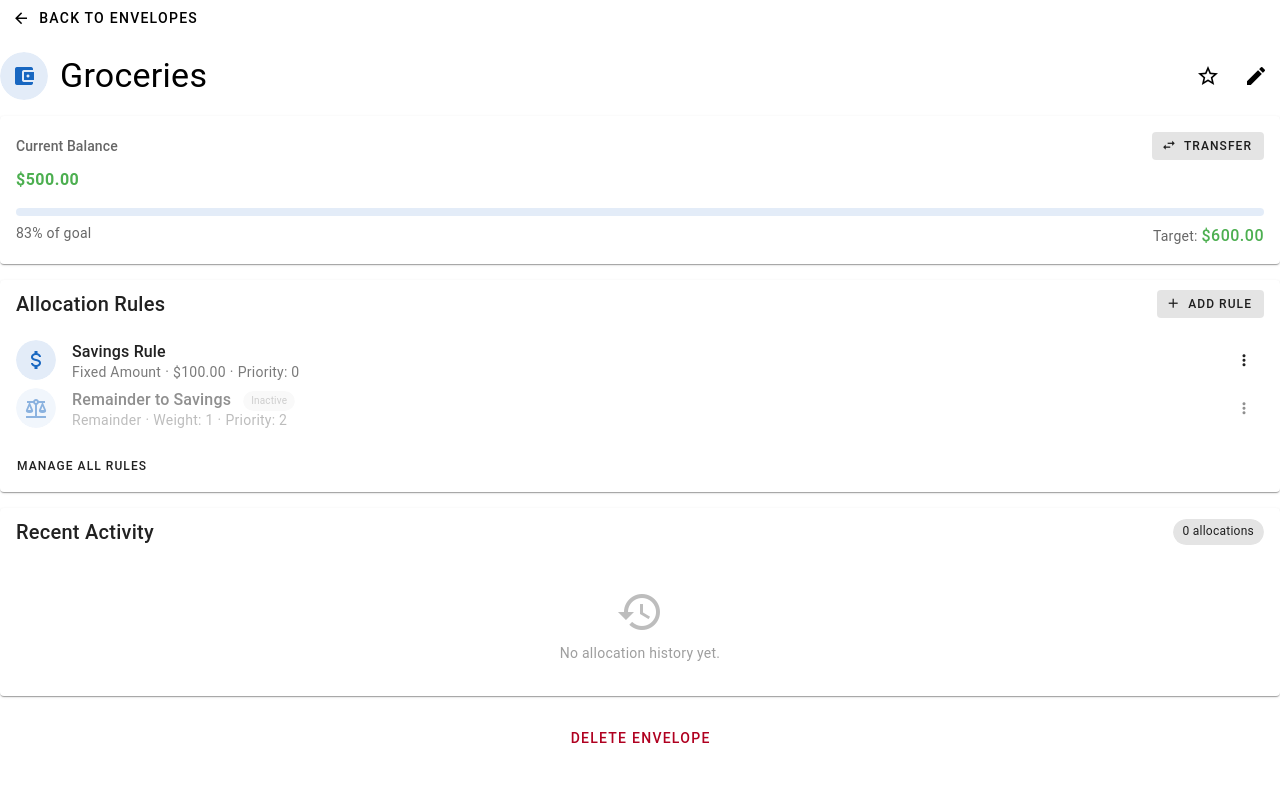
Scenario: EnvelopeDetailView › shows transfer button and can open transfer dialog
Click the button "Transfer".
click(1208, 146)  # box [1152,132,1264,160]
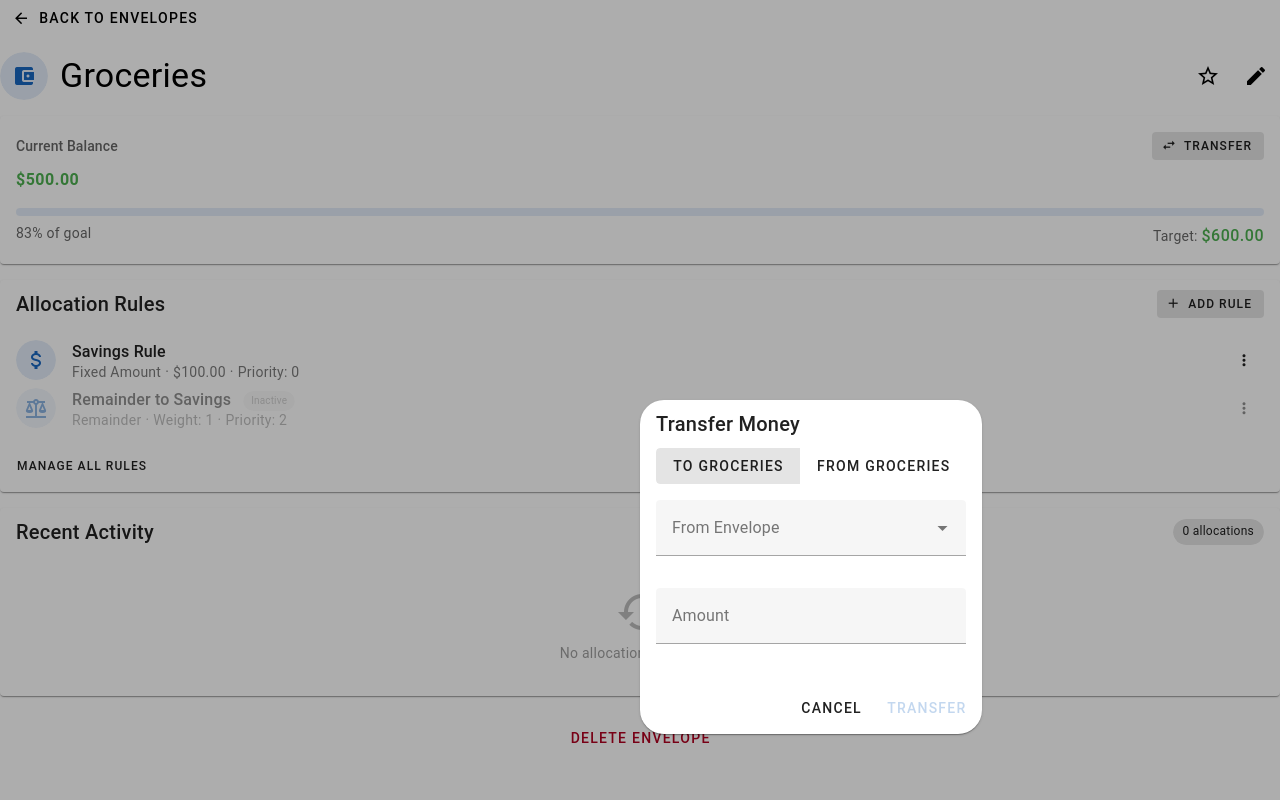
Check: the text "Transfer Money" is shown, box [656,412,800,436]
Check: the text "To Groceries" is shown, box [672,458,784,474]
Check: the text "From Groceries" is shown, box [816,458,950,474]
